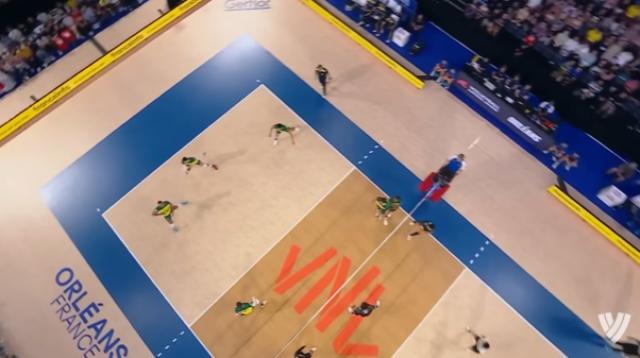Levantador: (228, 290, 270, 320)
Libero: (458, 320, 498, 358)
